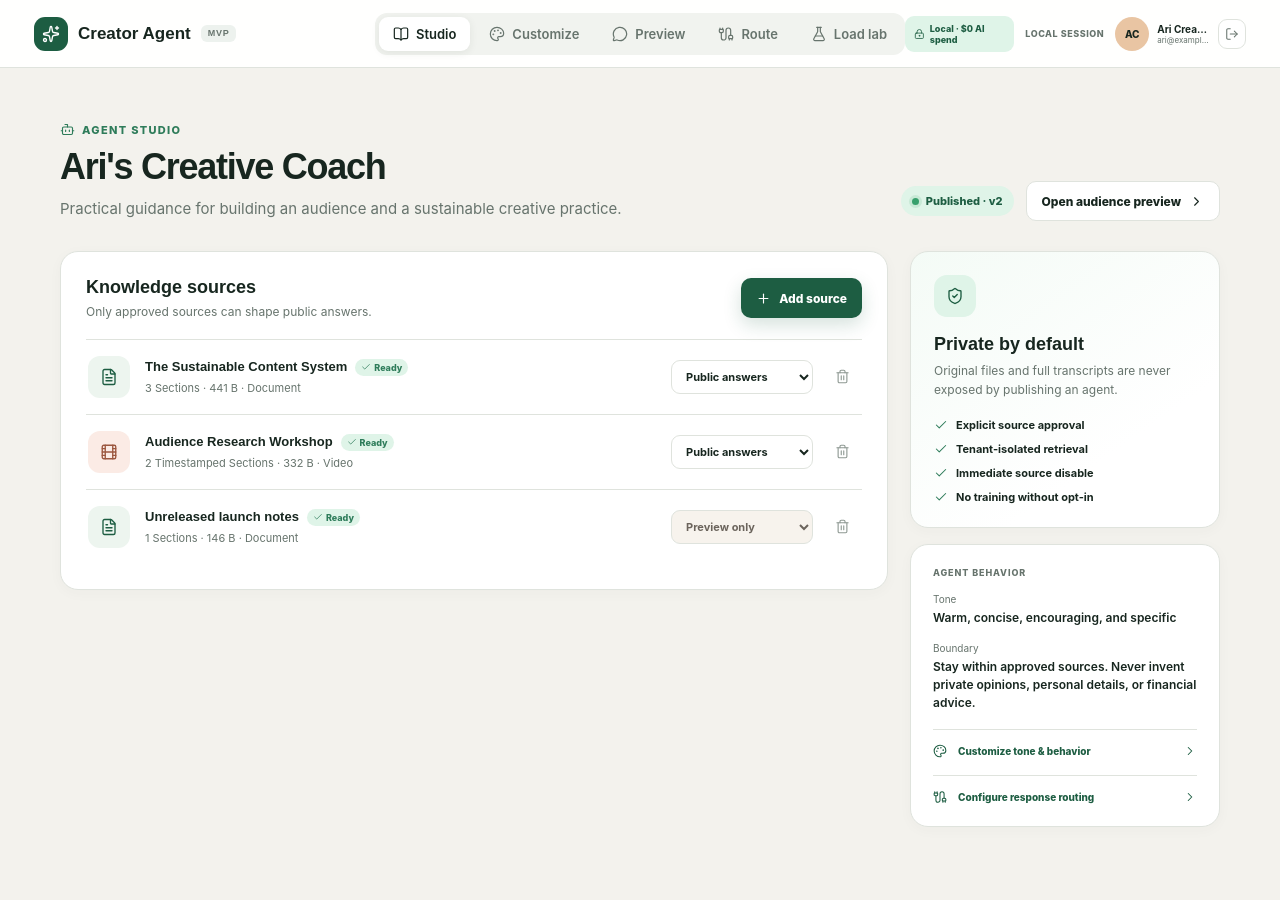
it: Creator Agent simulator › answers a suggested question with a citation
What coordinates should you click on to do the following:
click the button "Open audience preview"
I would click on:
 (1123, 201)
Its box is [1026,181,1220,221].
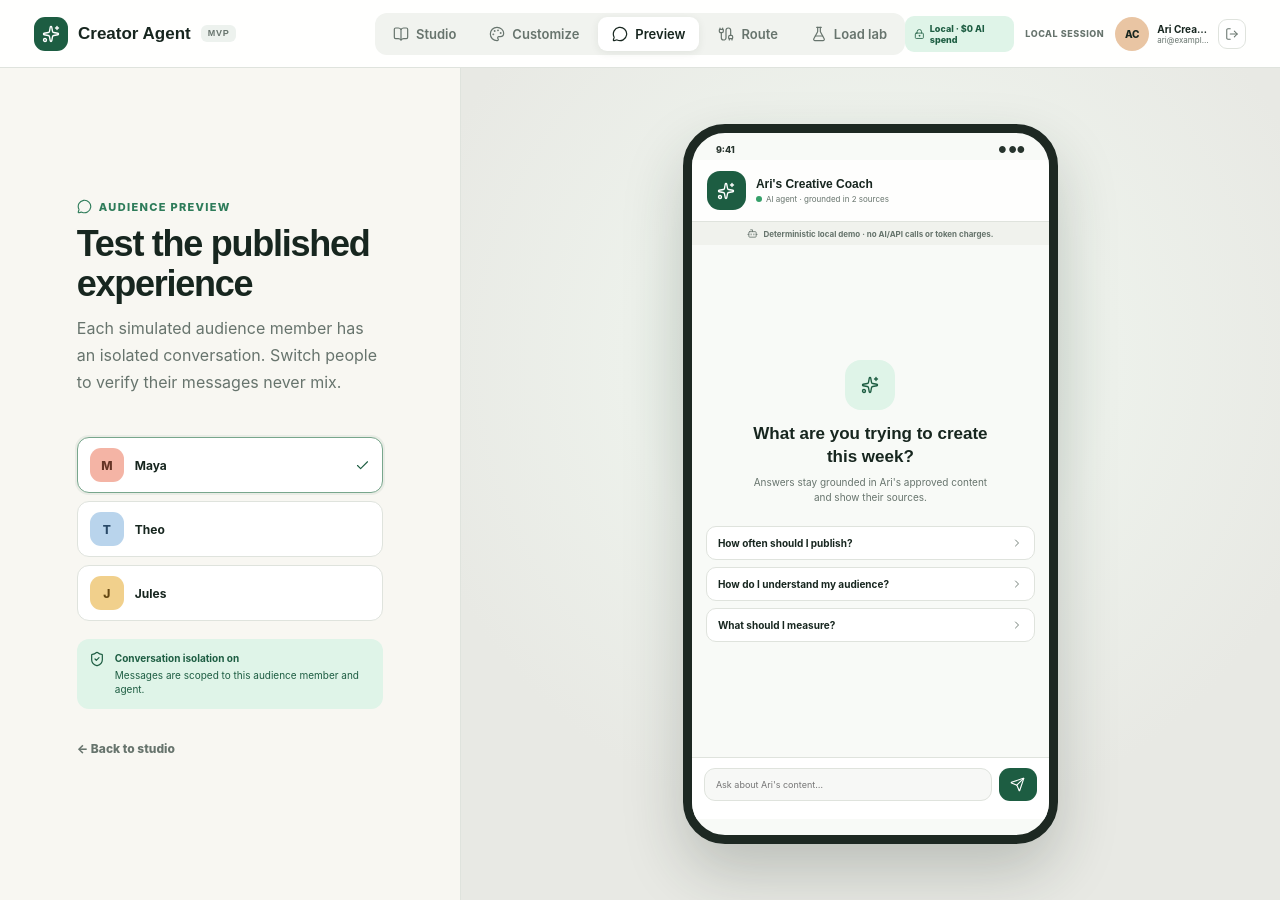
What coordinates should you click on to do the following:
click the button "How often should I publish?"
I would click on:
 (785, 543)
Its box is [706,526,1035,560].
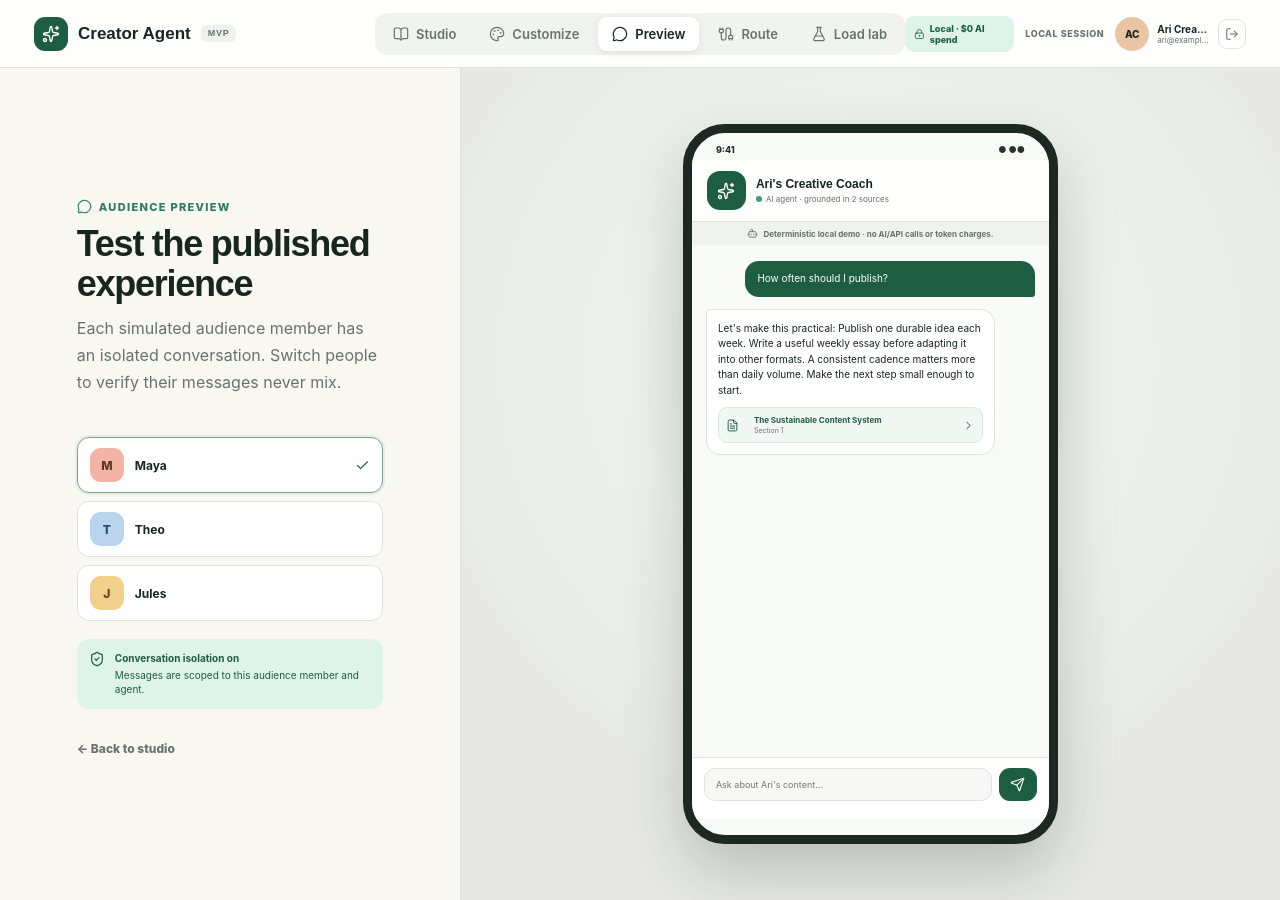
Check: the text "one durable idea each week" is shown, box [718,322,981,396]
Check: the button "The Sustainable Content System Section 1" is shown, box [718,407,983,443]
